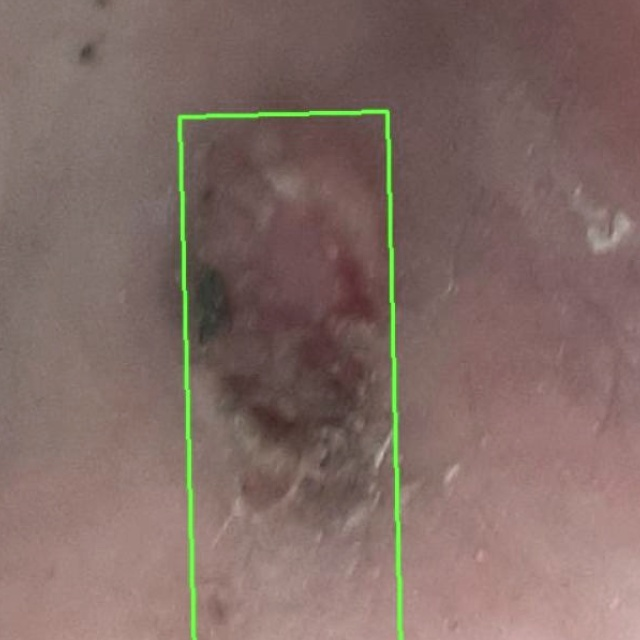Eczema: (180, 111, 401, 639)
